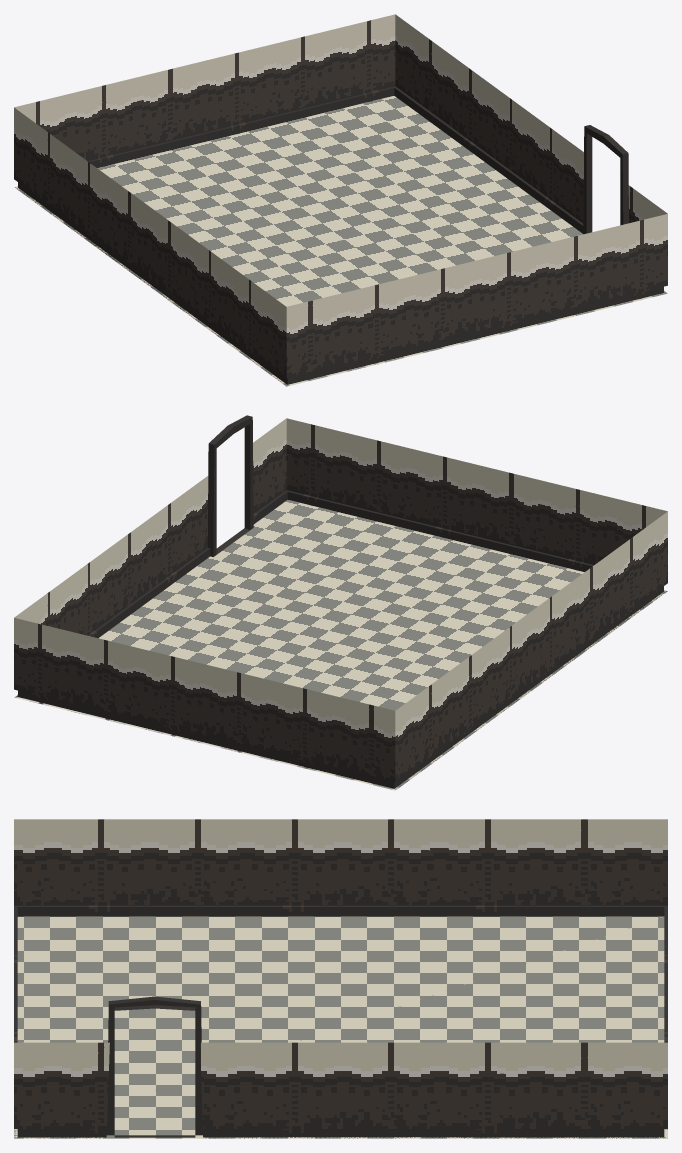
The model's file is Kitchen.obj.
3 views of the same model, one above another, from view 1: azimuth 30°, elevation 25°; view 2: azimuth 150°, elevation 25°; view 3: azimuth 270°, elevation 25° (orthographic). The views are drawn at different scales.
Visible parts, largest first — view 1: Kitchen_Plane.004; view 2: Kitchen_Plane.004; view 3: Kitchen_Plane.004.
Boxes of the visible parts, x1=… form: Kitchen_Plane.004: x1=14, y1=14, x2=667, y2=386; Kitchen_Plane.004: x1=14, y1=415, x2=667, y2=790; Kitchen_Plane.004: x1=14, y1=819, x2=667, y2=1138.
Size of the model in its own units: 7.5 by 2.17 by 9.28.
